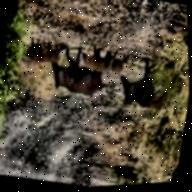boar: (109, 50, 189, 124), (39, 51, 105, 107), (74, 36, 125, 81), (20, 31, 67, 75), (103, 51, 128, 79)
